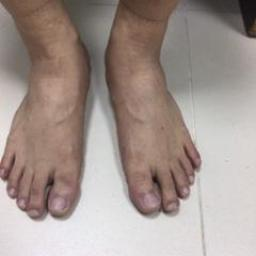Dorsal View -Both Feet-: (1, 17, 209, 234)
